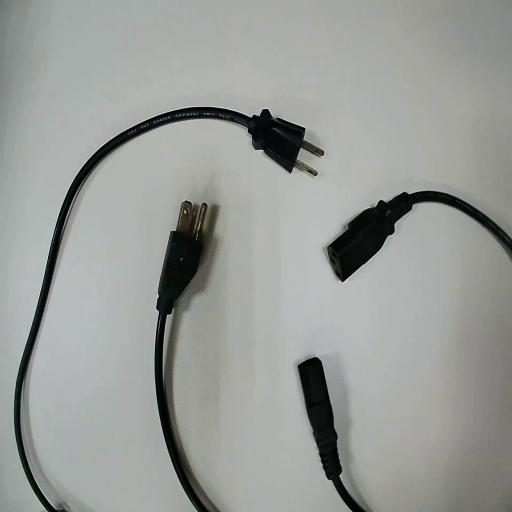wire: (15, 108, 321, 511), (155, 209, 209, 511), (328, 192, 511, 279), (298, 358, 364, 511)
